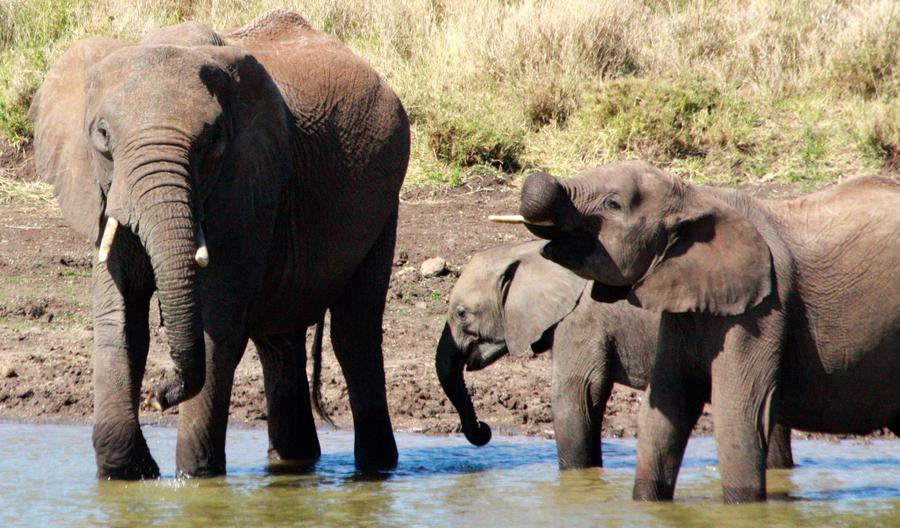elephant: (60, 33, 286, 308)
